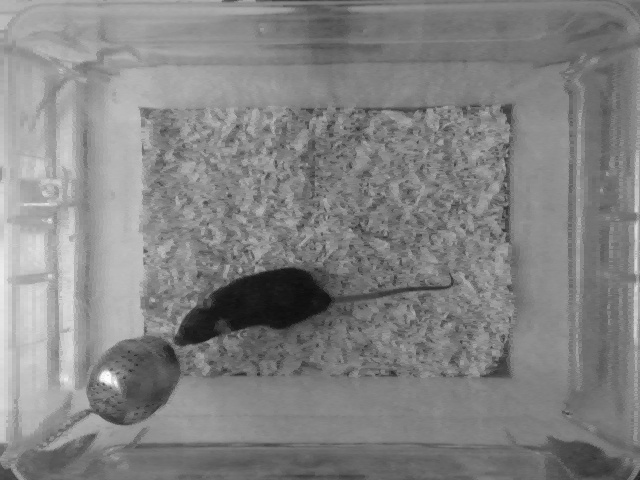mice: (174, 265, 452, 347)
